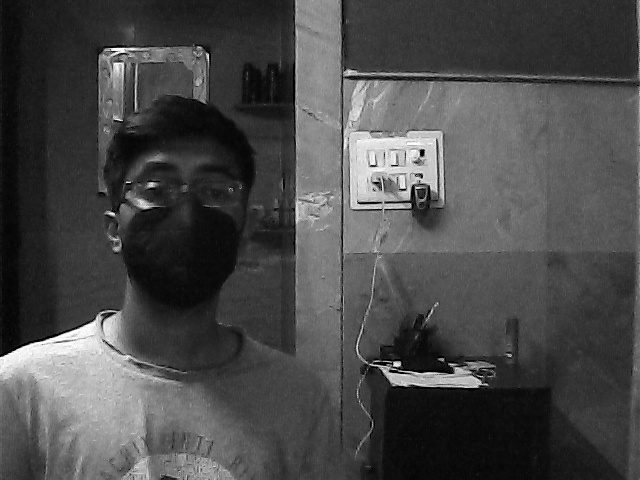mask: (120, 152, 248, 318)
